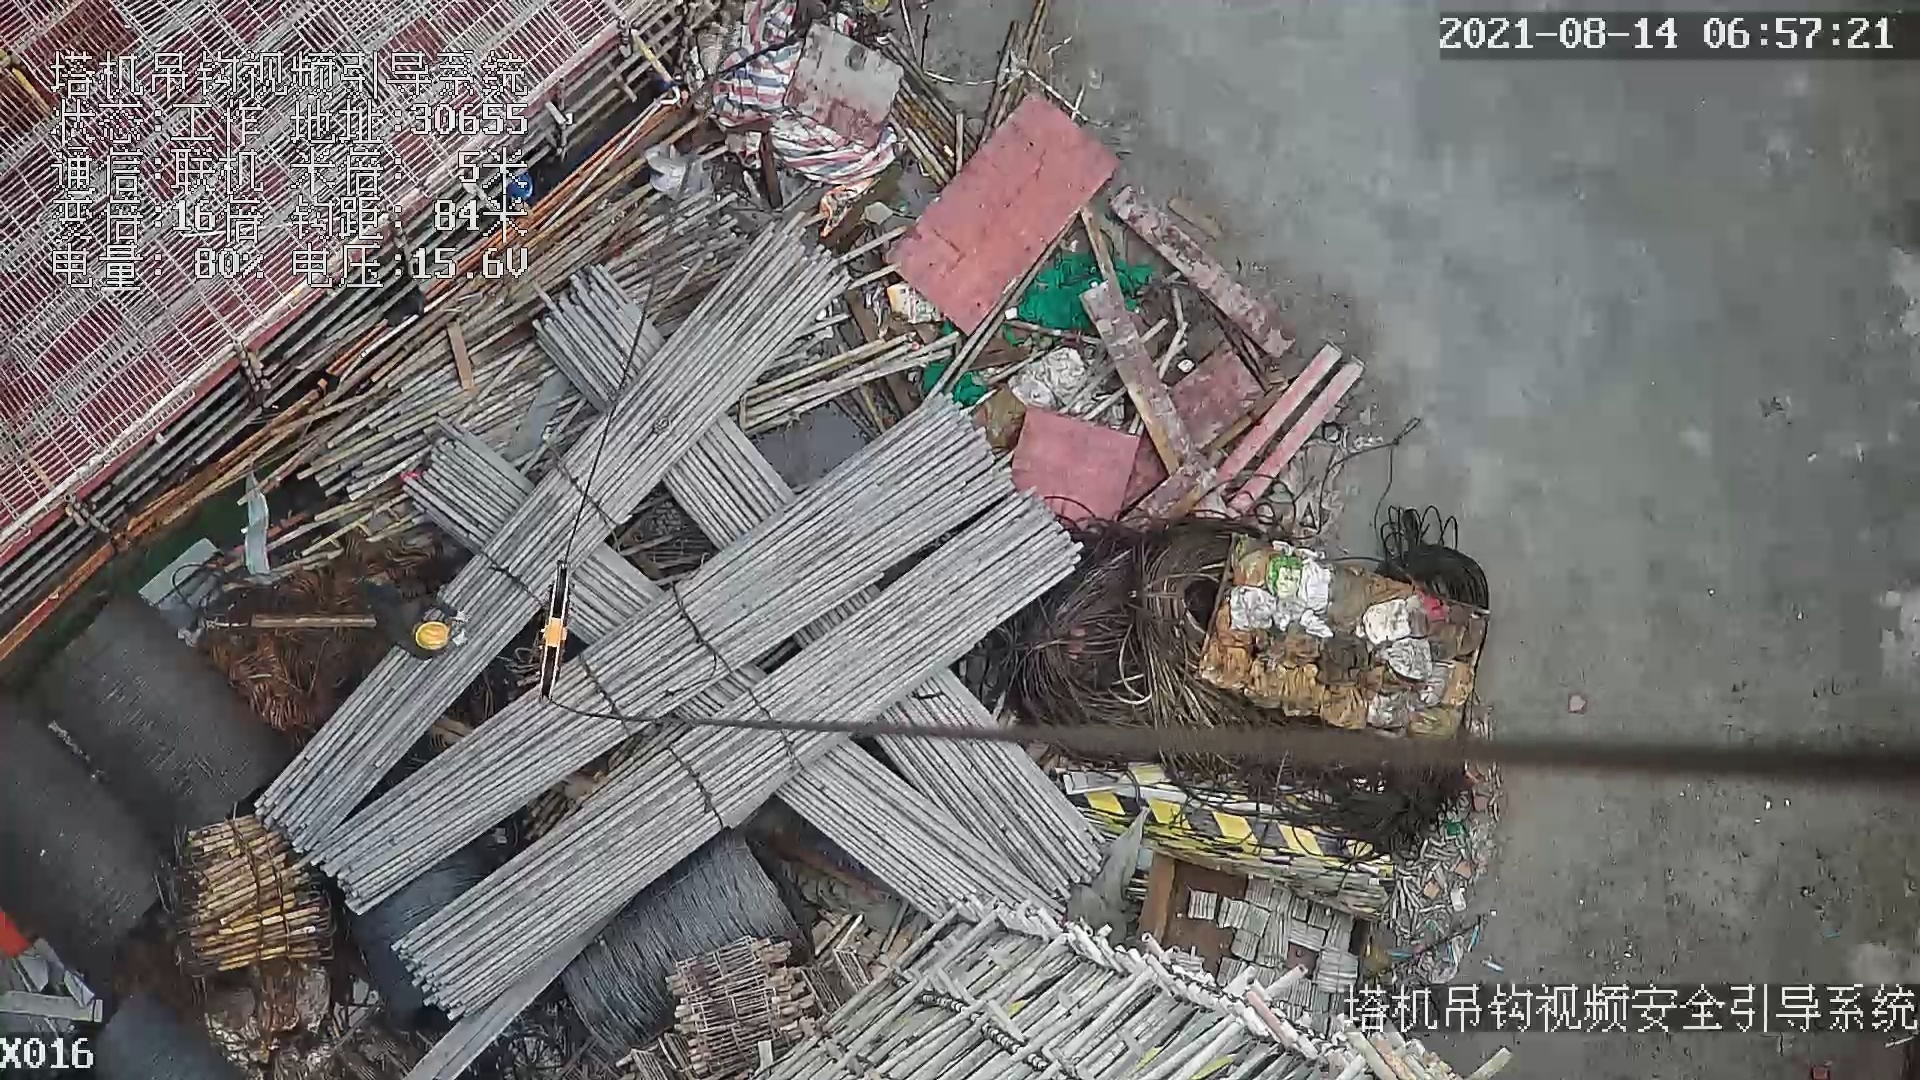helmet: (415, 621, 449, 651)
hook: (527, 562, 577, 709)
person: (353, 574, 472, 659)
rebar: (254, 222, 843, 860), (385, 495, 1081, 1023), (316, 395, 1016, 908), (774, 737, 1069, 935), (865, 668, 1101, 897)
wood: (181, 814, 338, 973)
